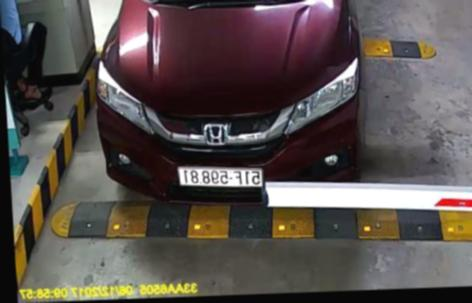License_Plate: (176, 161, 269, 189)
